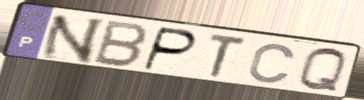B: (90, 18, 152, 70)
C: (246, 42, 298, 85)
N: (37, 14, 109, 65)
P: (140, 25, 199, 73)
Q: (296, 46, 349, 94)
T: (206, 32, 249, 80)
